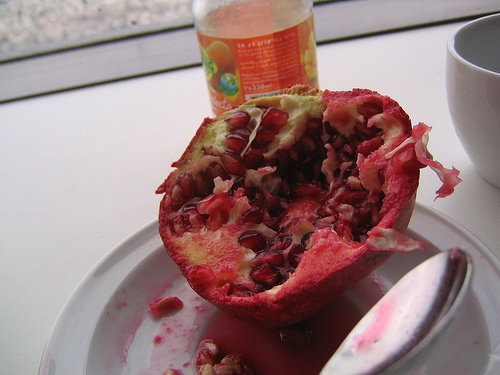pomogranate: (157, 84, 462, 330)
